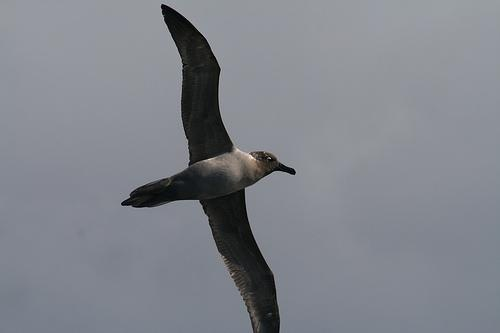bird: (117, 4, 297, 333)
